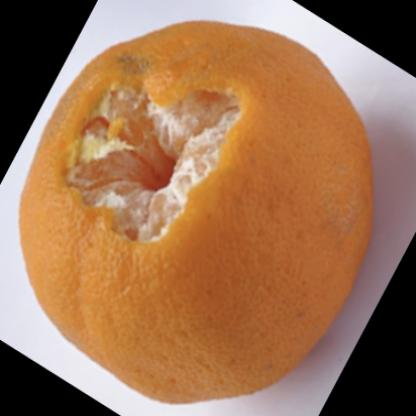fresh: (26, 19, 378, 405)
